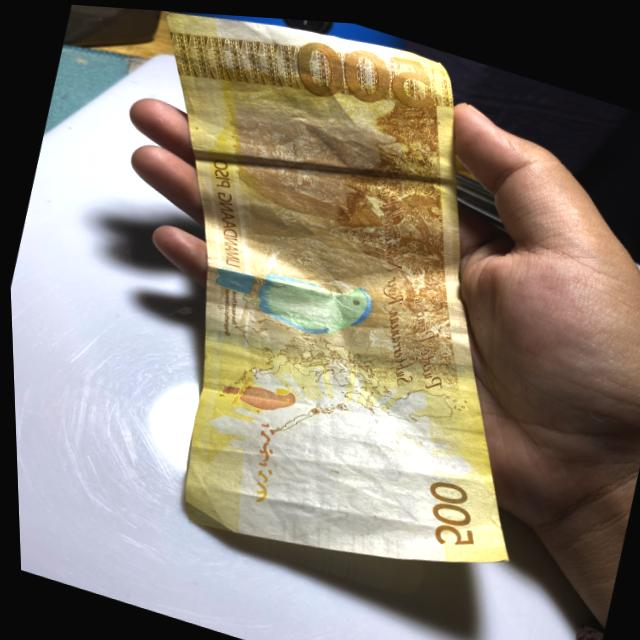500_big_parrot: (200, 237, 376, 345)
500_parrot_watermark: (207, 360, 302, 421)
value_watermark: (295, 487, 349, 522)
